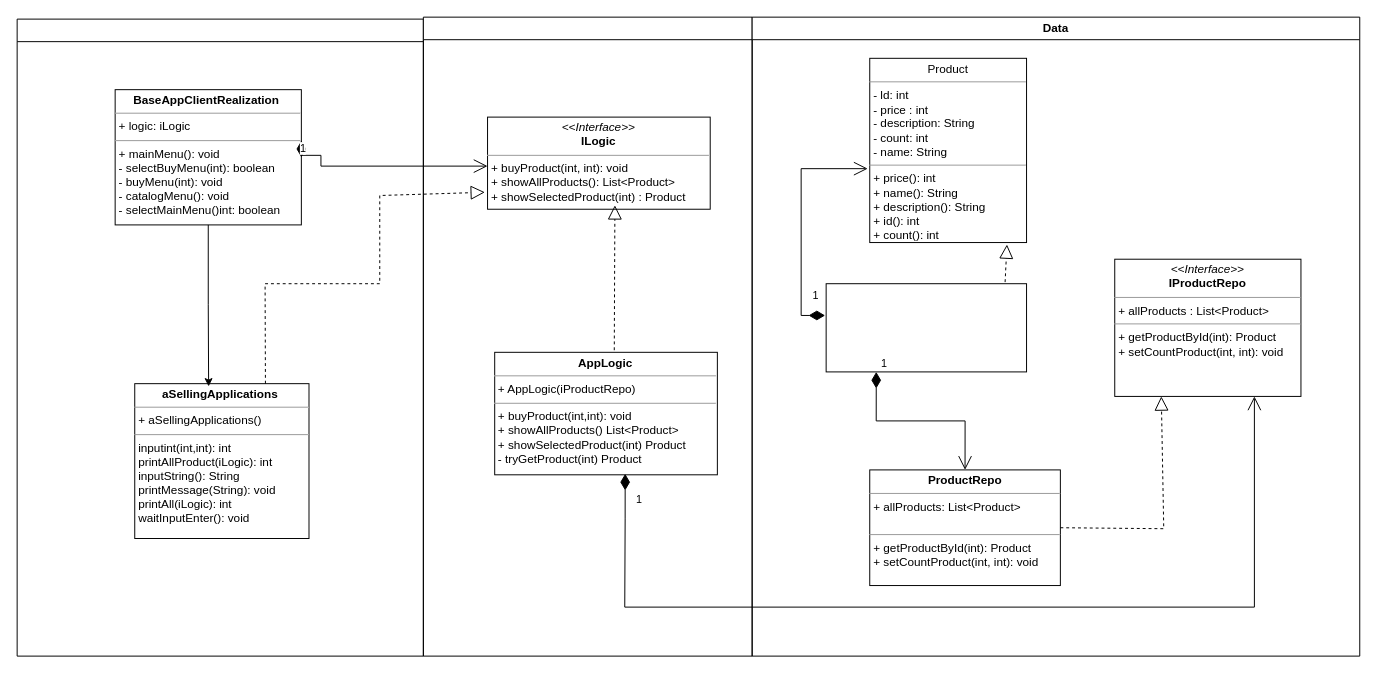
This 1377x673 diagram has some shape labels left out. The shapes that lost their labels are listed below. From the top down, each one's box as (x1, y1, x2, y2) in pixels, then its label:
(16, 18, 423, 656): AppVeiw
(422, 16, 752, 656): BusinessLogic
(825, 283, 1027, 372): DataBase - products : List<Product> + instance(): DataBase
